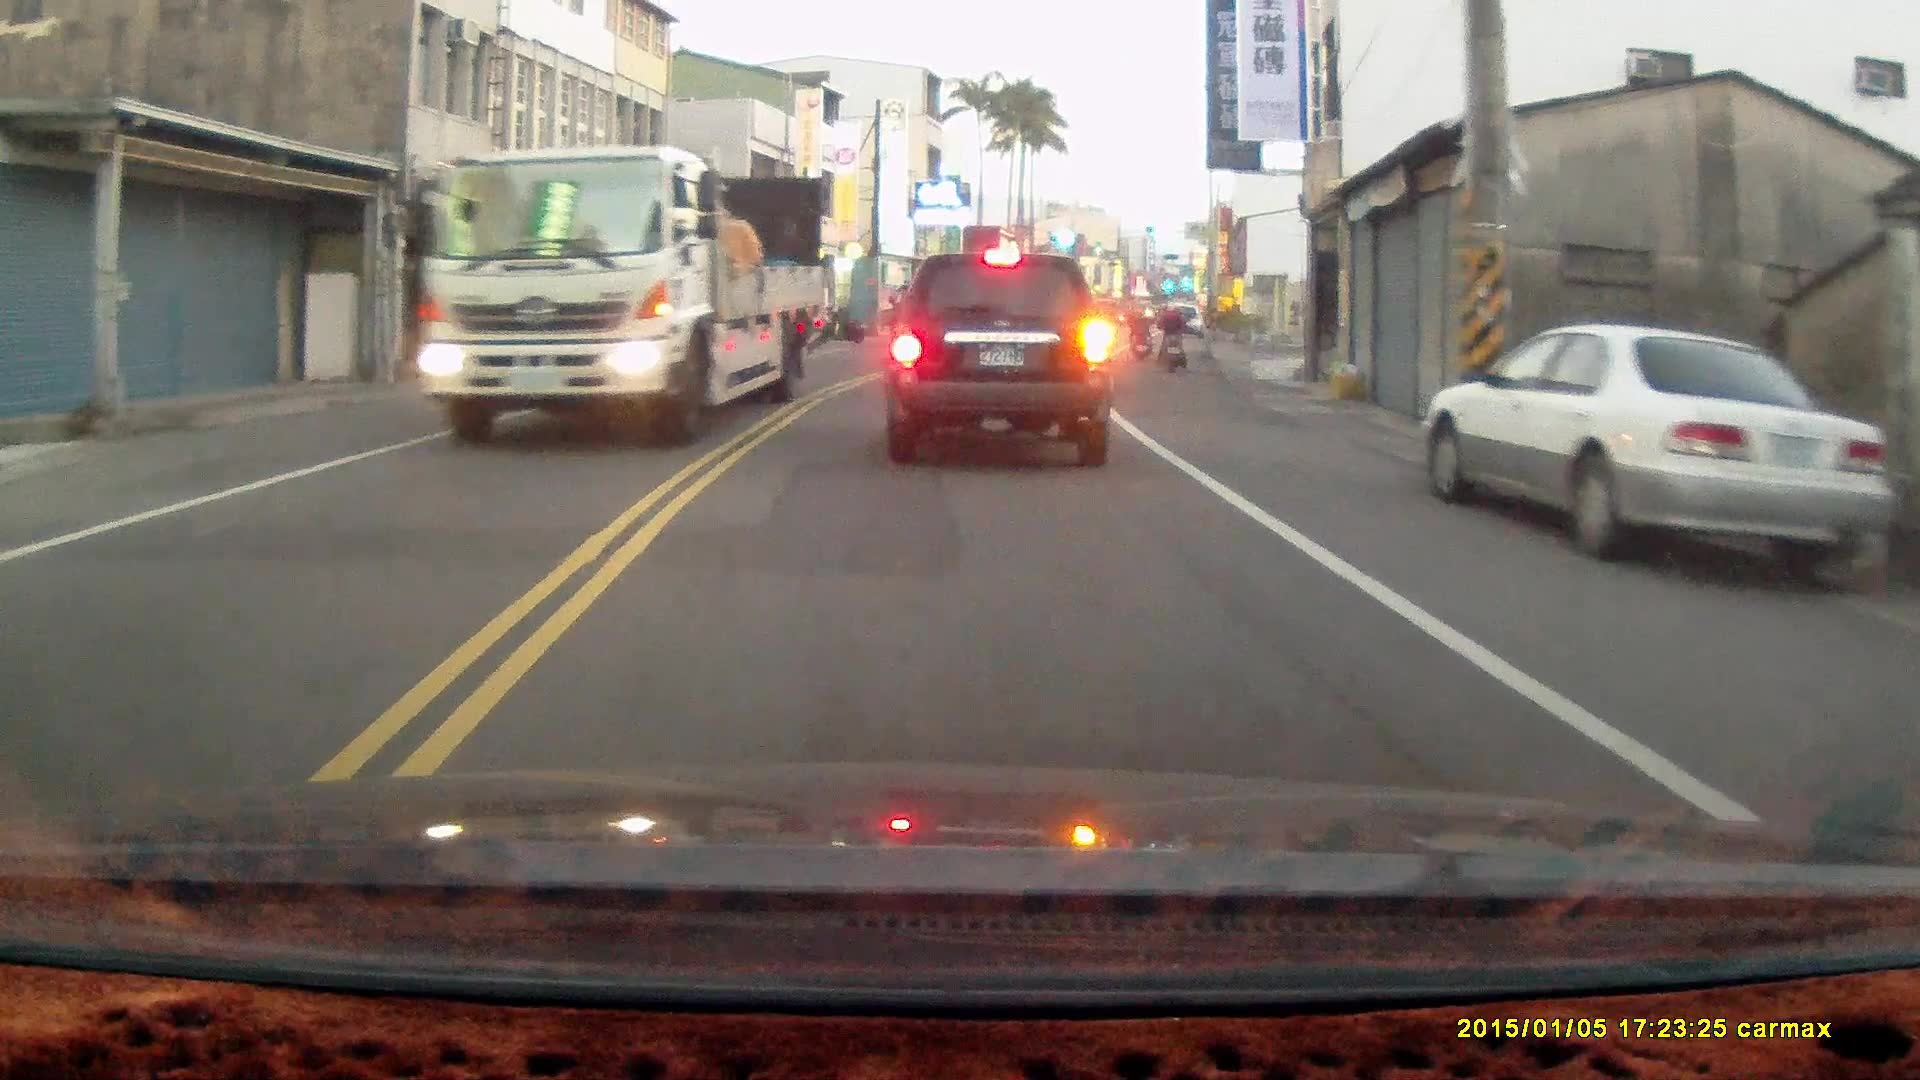rider: (1155, 294, 1186, 373), (1124, 299, 1148, 359)
vehicle: (1424, 319, 1887, 580), (411, 149, 830, 435), (884, 248, 1117, 465)
